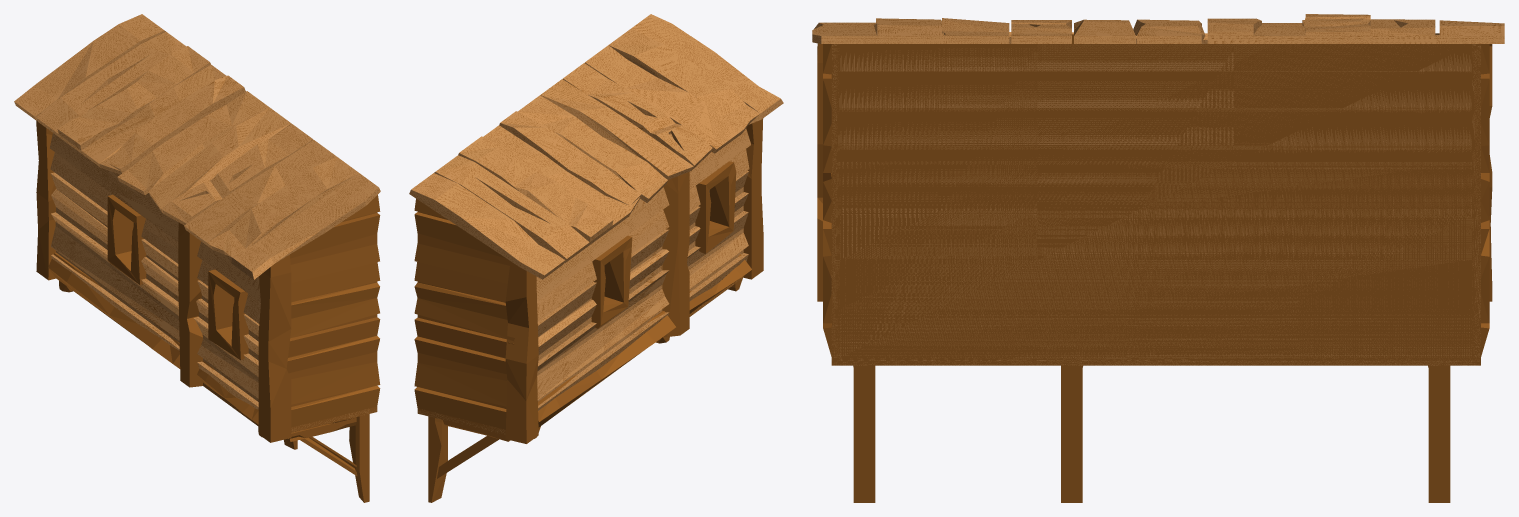
Rendered from Extension2.fbx.
3 views of the same model, side by side, from view 1: azimuth 30°, elevation 25°; view 2: azimuth 150°, elevation 25°; view 3: azimuth 270°, elevation 25° (orthographic). The views are drawn at different scales.
Visible parts, largest first — view 1: Roof8_1, Group1, Group4, Group3, Group6, Group7, Group9, Group10, Group5, Konek3_1, Group16, Konek3_2 (+3 smaller); view 2: Roof8_1, Group1, Group2, Group8, Group5, Group7, Group9, Group10, Group6, Konek3_1, Group12, Blok2_1 (+2 smaller); view 3: Blok2_1, Roof8_1, Group12, Group16, Group19, Group6, Group4, Group2, Group3, Group8.
Boxes of the visible parts, box(x1,y1,x2,y2) form: Roof8_1: box(14, 14, 380, 279); Group1: box(50, 133, 260, 409); Group4: box(286, 298, 380, 427); Group3: box(290, 195, 380, 318); Group6: box(258, 254, 291, 442); Group7: box(178, 222, 202, 387); Group9: box(208, 269, 248, 360); Group10: box(107, 194, 146, 284); Group5: box(36, 120, 56, 280); Konek3_1: box(48, 252, 180, 368); Group16: box(349, 414, 369, 502); Konek3_2: box(197, 360, 258, 424); Roof8_1: box(409, 14, 783, 279); Group1: box(536, 128, 750, 410); Group2: box(414, 298, 514, 429); Group8: box(414, 199, 510, 319); Group5: box(505, 261, 538, 443); Group7: box(662, 171, 689, 336); Group9: box(695, 161, 736, 253); Group10: box(591, 235, 632, 328); Group6: box(743, 118, 763, 279); Konek3_1: box(538, 311, 675, 427); Group12: box(428, 416, 447, 502); Blok2_1: box(417, 276, 743, 434); Blok2_1: box(831, 44, 1480, 365); Roof8_1: box(812, 14, 1504, 43); Group12: box(1428, 365, 1450, 502); Group16: box(853, 365, 875, 502); Group19: box(1061, 365, 1082, 502); Group6: box(817, 43, 823, 301); Group4: box(823, 182, 831, 356); Group2: box(1481, 182, 1489, 356); Group3: box(823, 44, 831, 199); Group8: box(1481, 44, 1489, 199).
Bounding box in the file's own units: 511 × 1197 × 1600.
